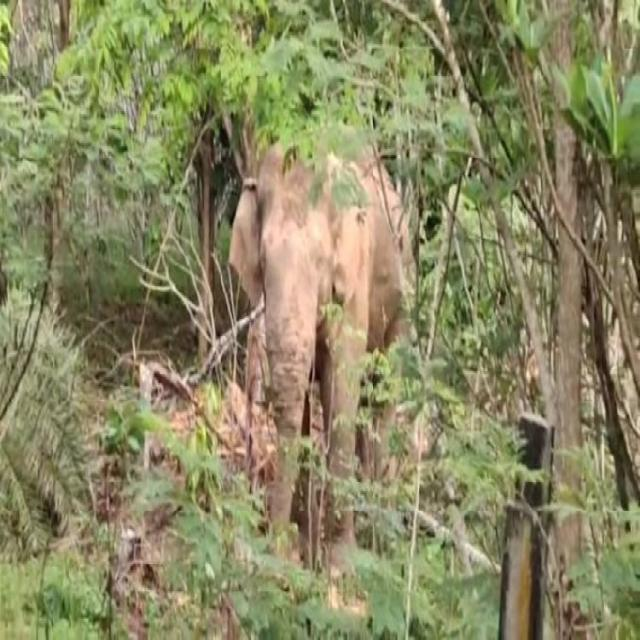Elephant: (234, 121, 421, 570)
